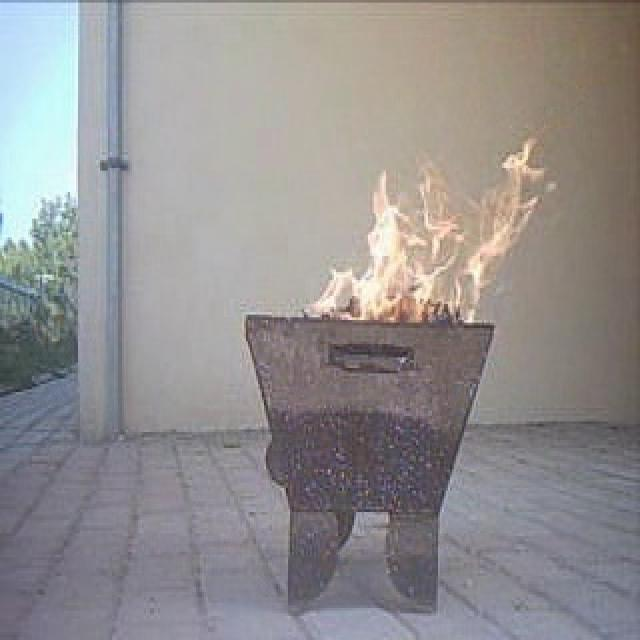fire: (322, 150, 544, 318)
